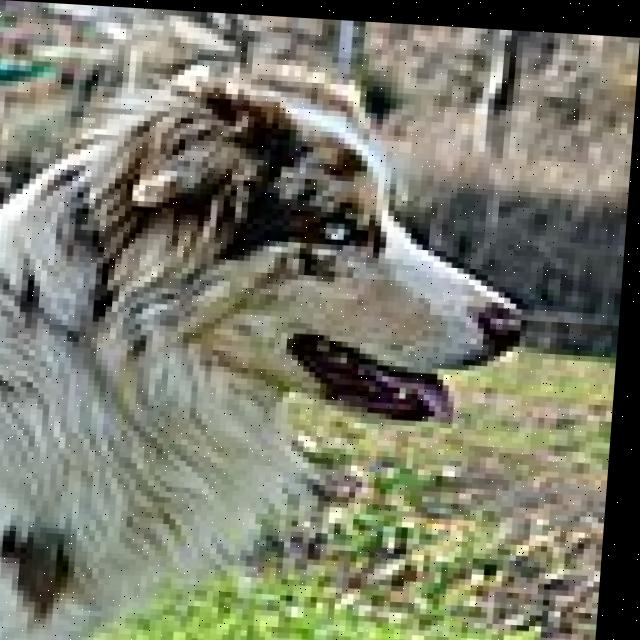BORDER_COLLIE: (0, 21, 560, 640)
